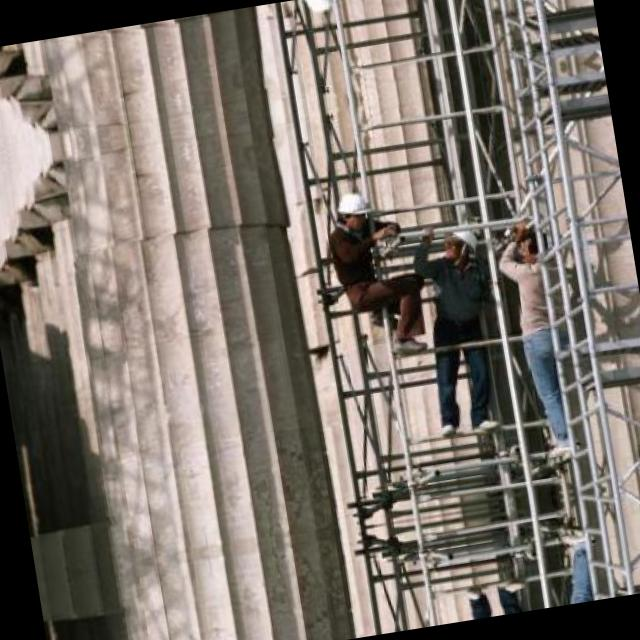helmet: (438, 220, 478, 264), (333, 189, 375, 228), (302, 0, 343, 17)
